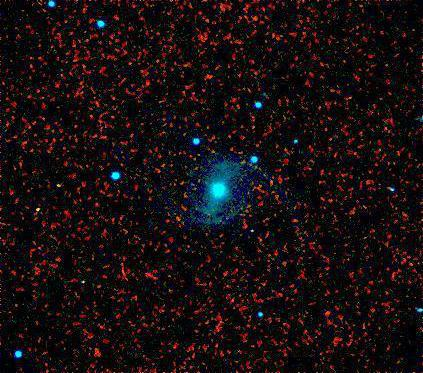star: (28, 191, 58, 221)
